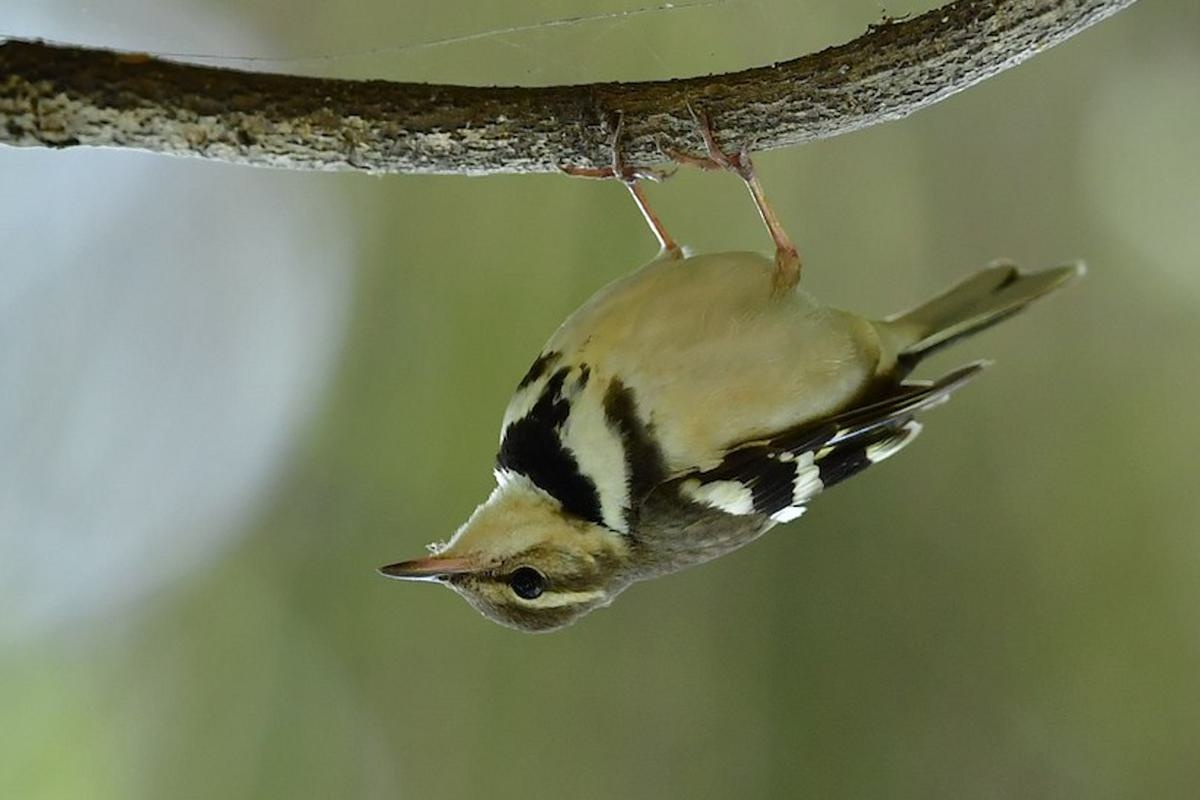wagtail: (375, 82, 1071, 637)
